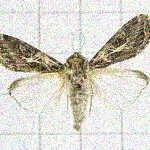Spodoptera litura: (1, 14, 150, 133)
